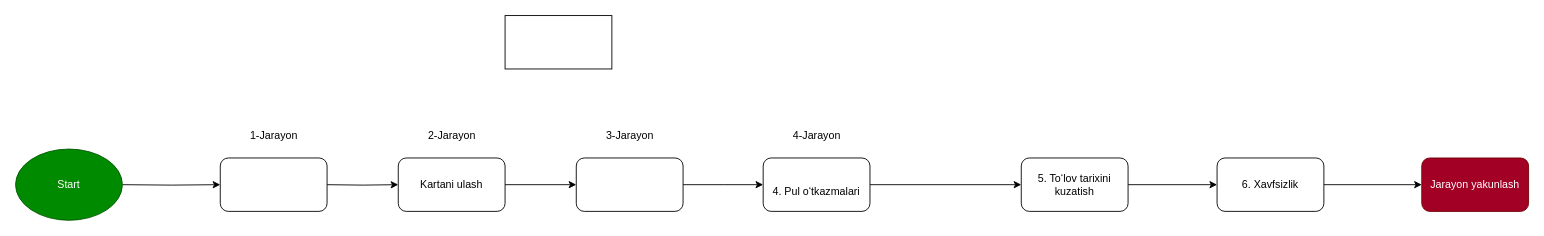
Image size: 1544x236. Some labels were removed from this diagram. Here are the shapes that lost their labels. From the top down, the centre of each, then its label:
At point 558,42: "Bank pul o'tkazmalar".
At point 273,184: "1. Ro‘yxatdan o‘tish va ilovaga kirish".
At point 629,184: "3. To‘lovlarni amalga oshirish".
